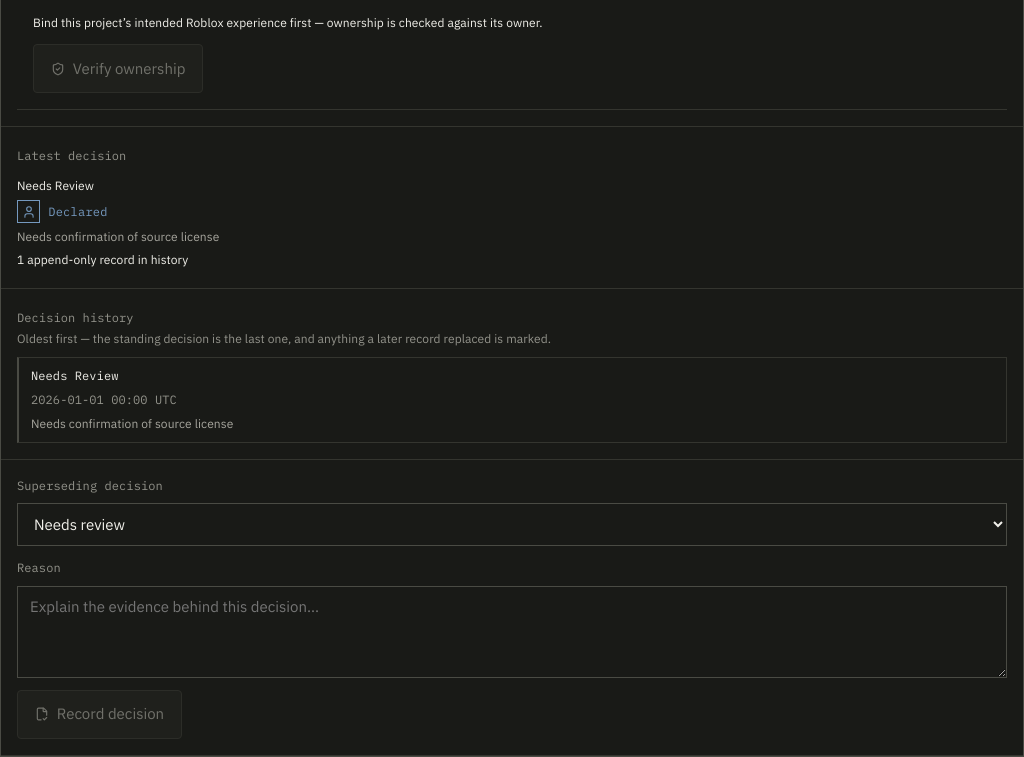
Test: LocalEvidenceView decision flow › submits the reason to the real recordDecision signature and re-renders the refreshed append-only history
This screenshot has width=1024, height=757.
(page scrolled)
Check: the text "1 append-only record in history" is shown, box [17,252,188,267]
Type "Confirmed against studio archive license" into the text box labelled "Reason". click: coordinates (512, 632)
box: [17,586,1007,678]
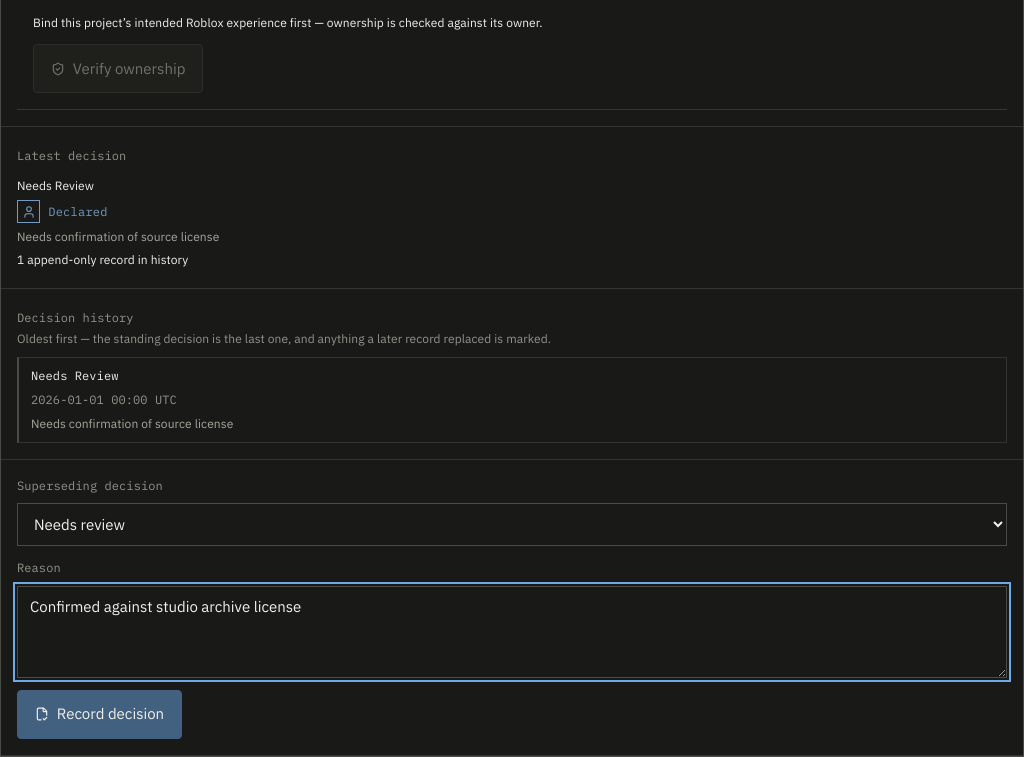
Click the button "Record decision". click: coordinates (99, 714)
box: [17,690,182,739]
(page scrolled)
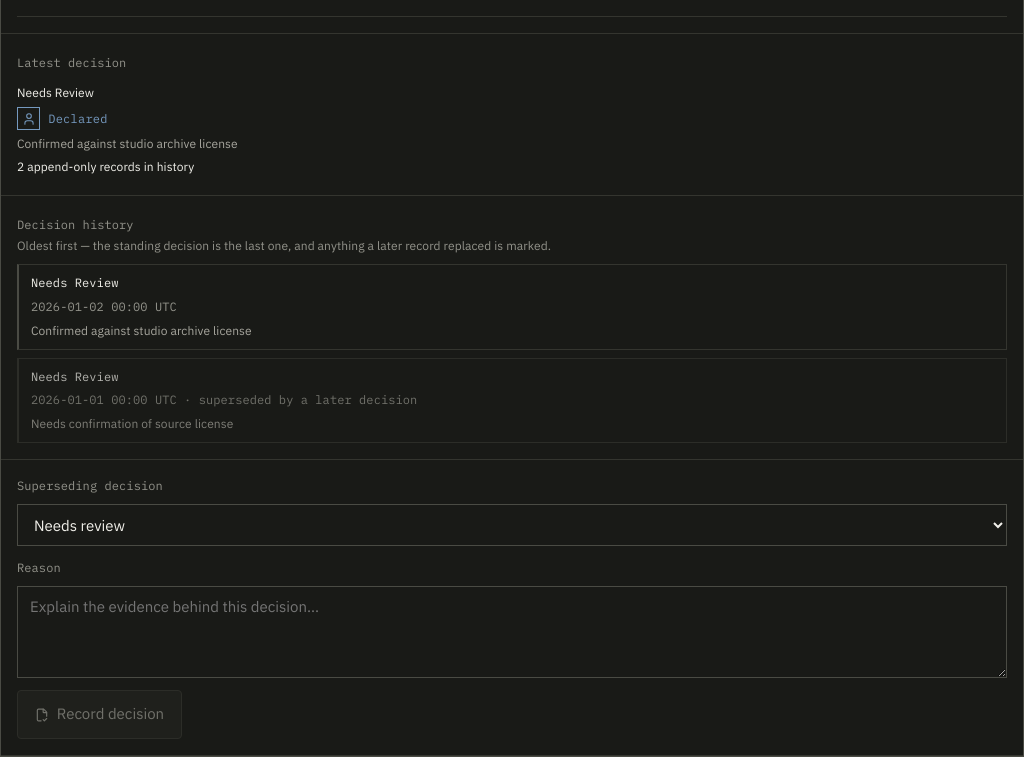
Check: the text "2 append-only records in history" is shown, box [17,159,194,174]
Check: the text "Confirmed against studio archive license" below "Latest decision" is shown, box [17,136,238,151]
Check: the text box labelled "Reason" is empty, box [17,586,1007,678]
